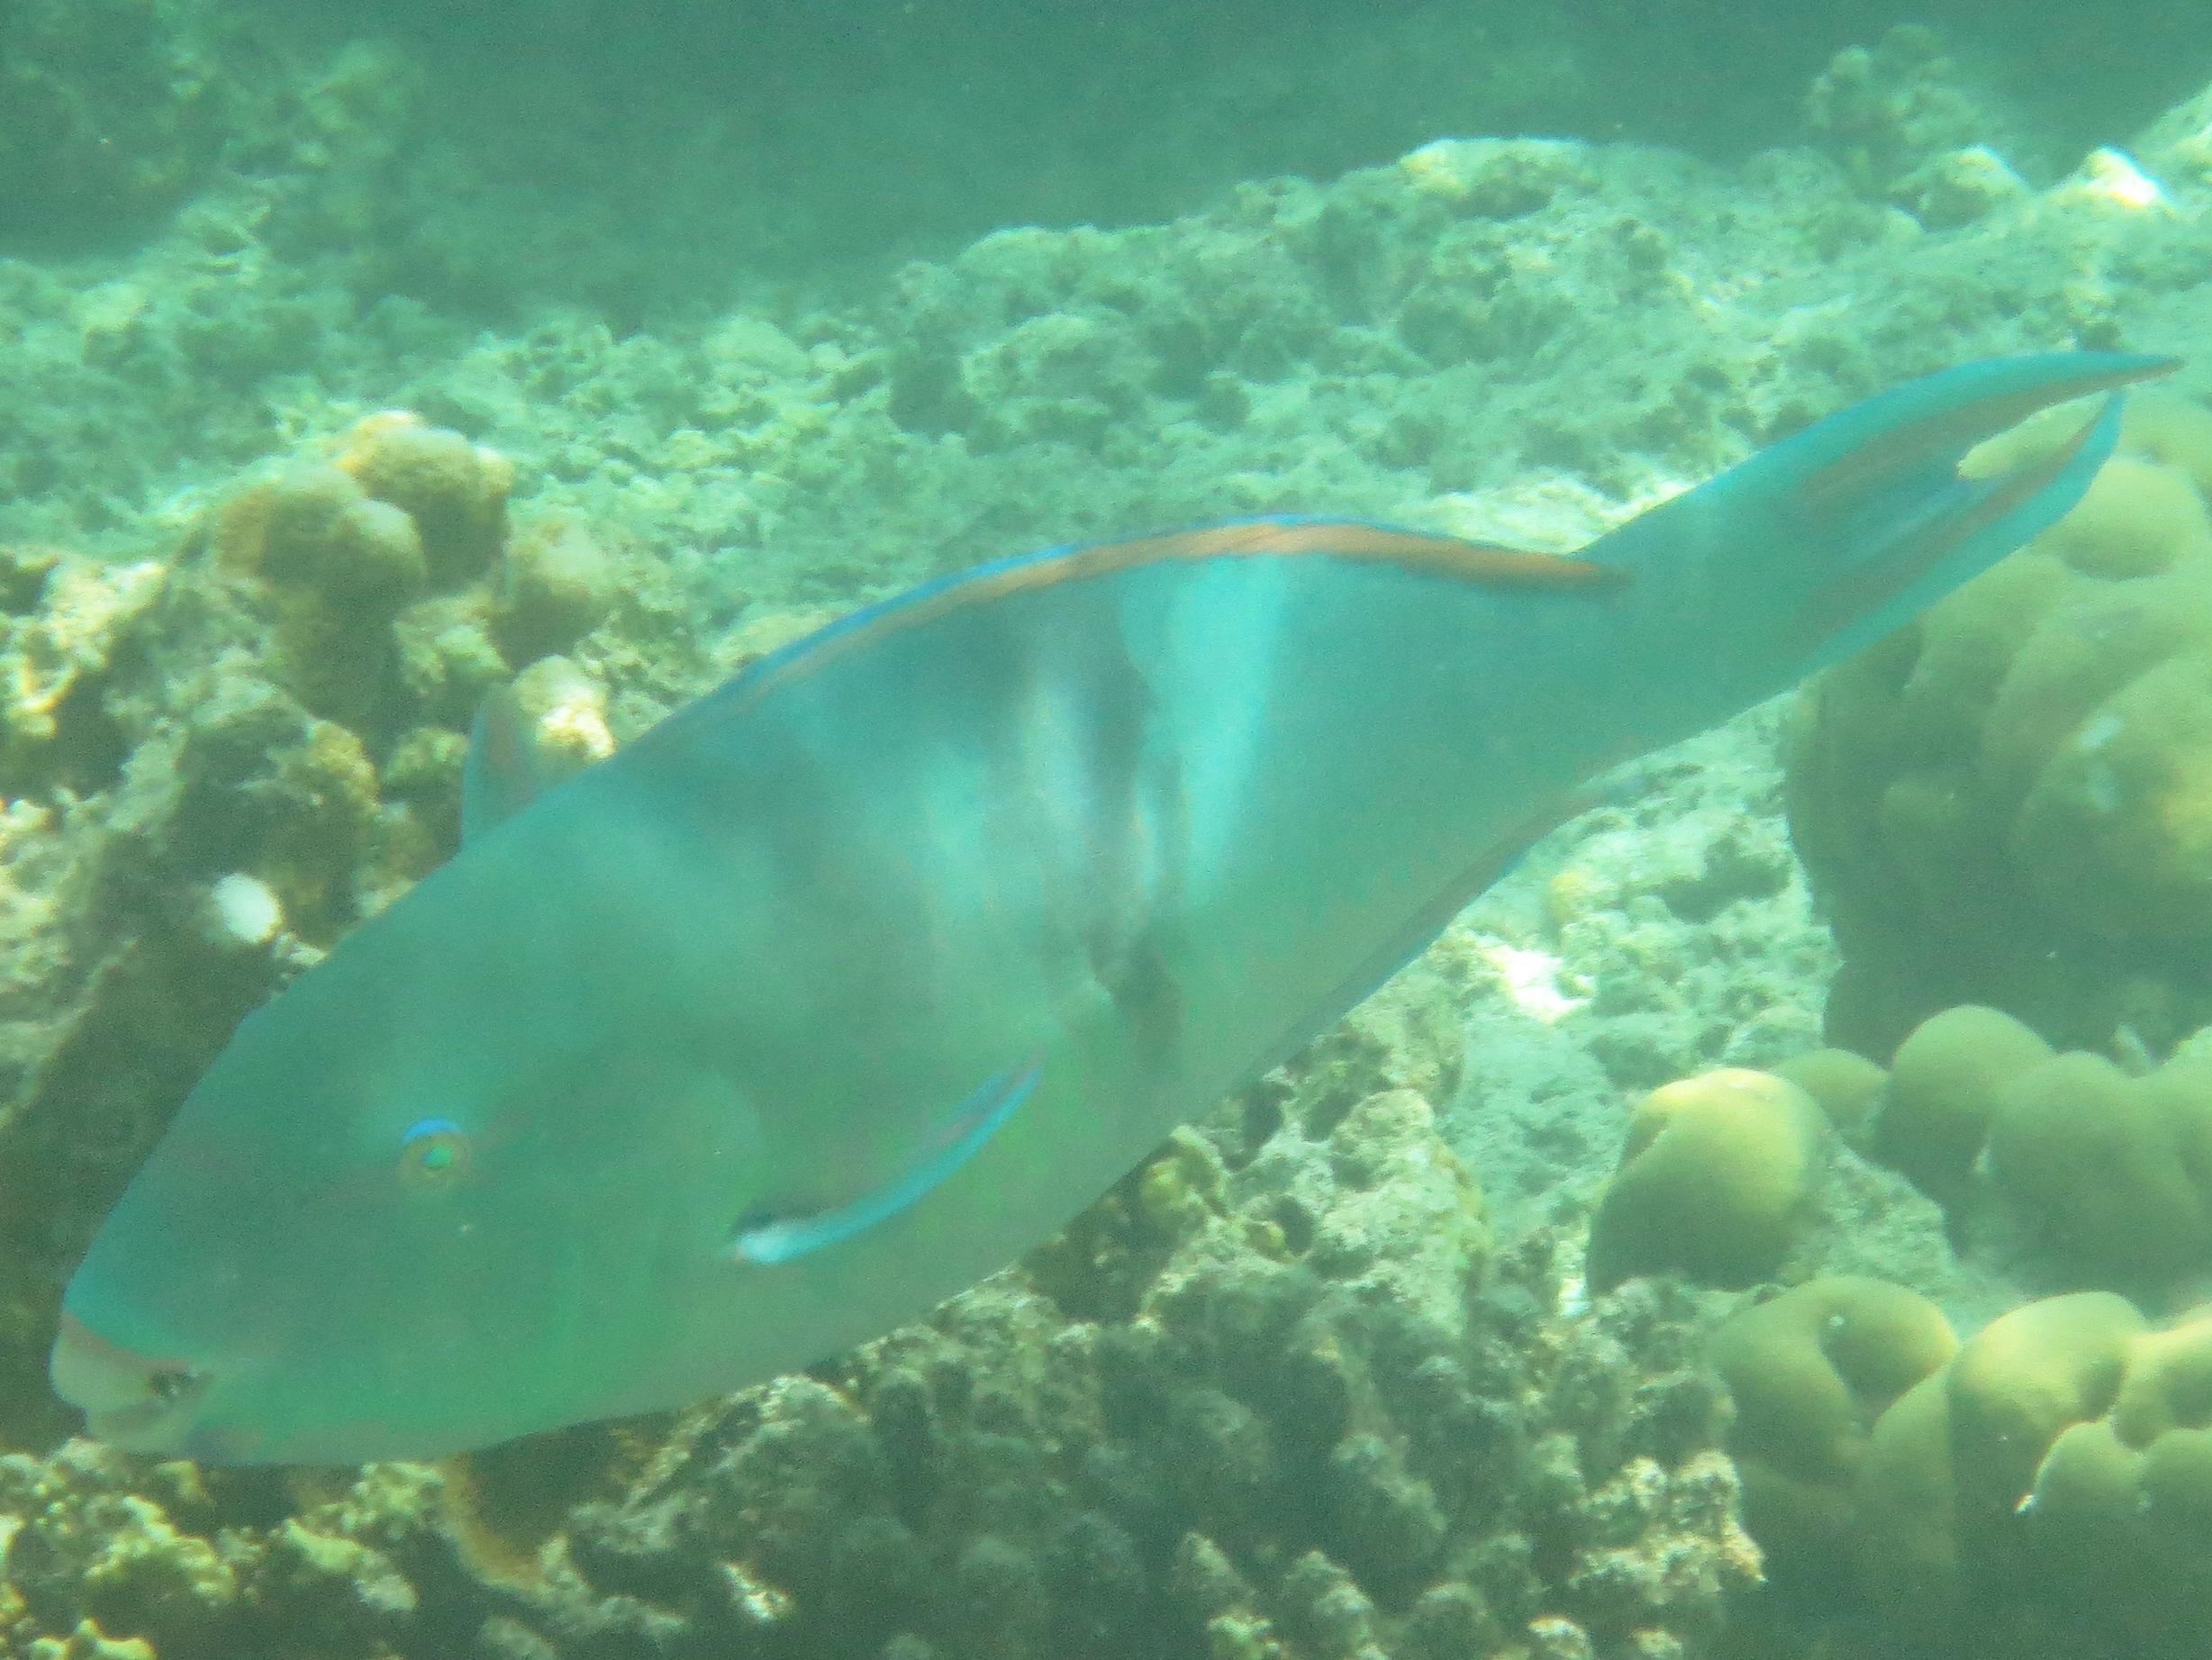Scarus rubroviolaceus: (51, 302, 2189, 1480)
